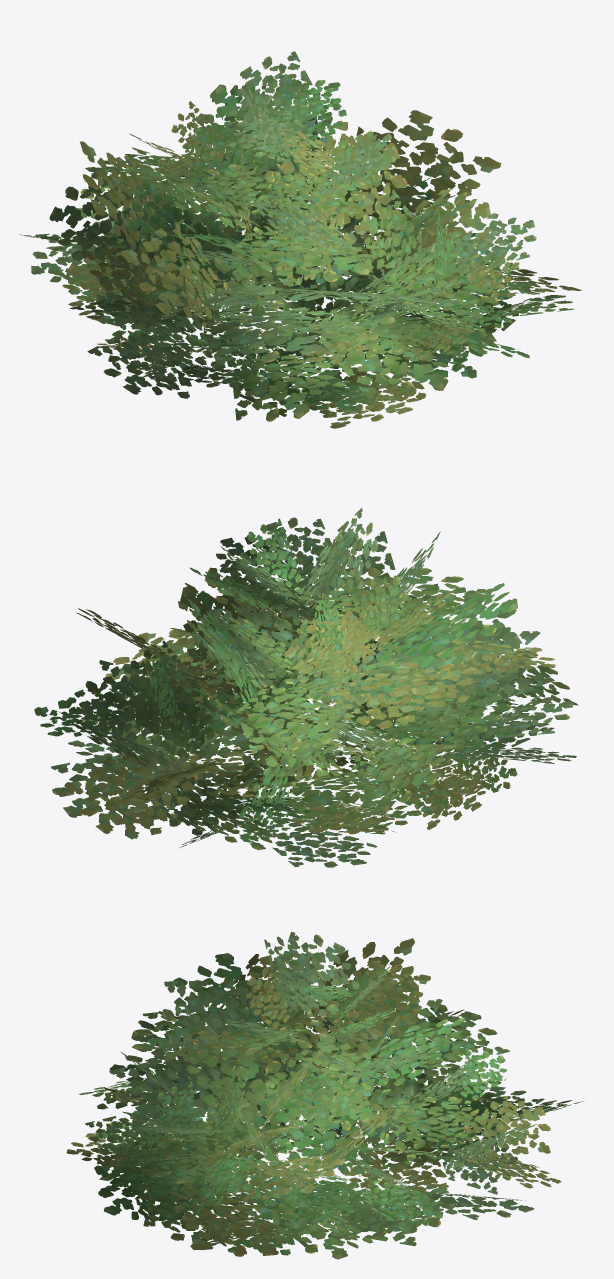
The model's file is Forest_plant_shrub_031_02.FBX.
3 renders of one model, top to bottom at view 1: azimuth 30°, elevation 25°; view 2: azimuth 150°, elevation 25°; view 3: azimuth 270°, elevation 25°, orthographic. The views are drawn at different scales.
Visible parts, largest first — view 1: attribwrangle50; view 2: attribwrangle50; view 3: attribwrangle50.
Boxes of the visible parts, <box> form: attribwrangle50: <box>19,51,581,428</box>; attribwrangle50: <box>34,508,578,867</box>; attribwrangle50: <box>66,931,583,1259</box>.
Size of the model in its own units: 459 by 247 by 521.
